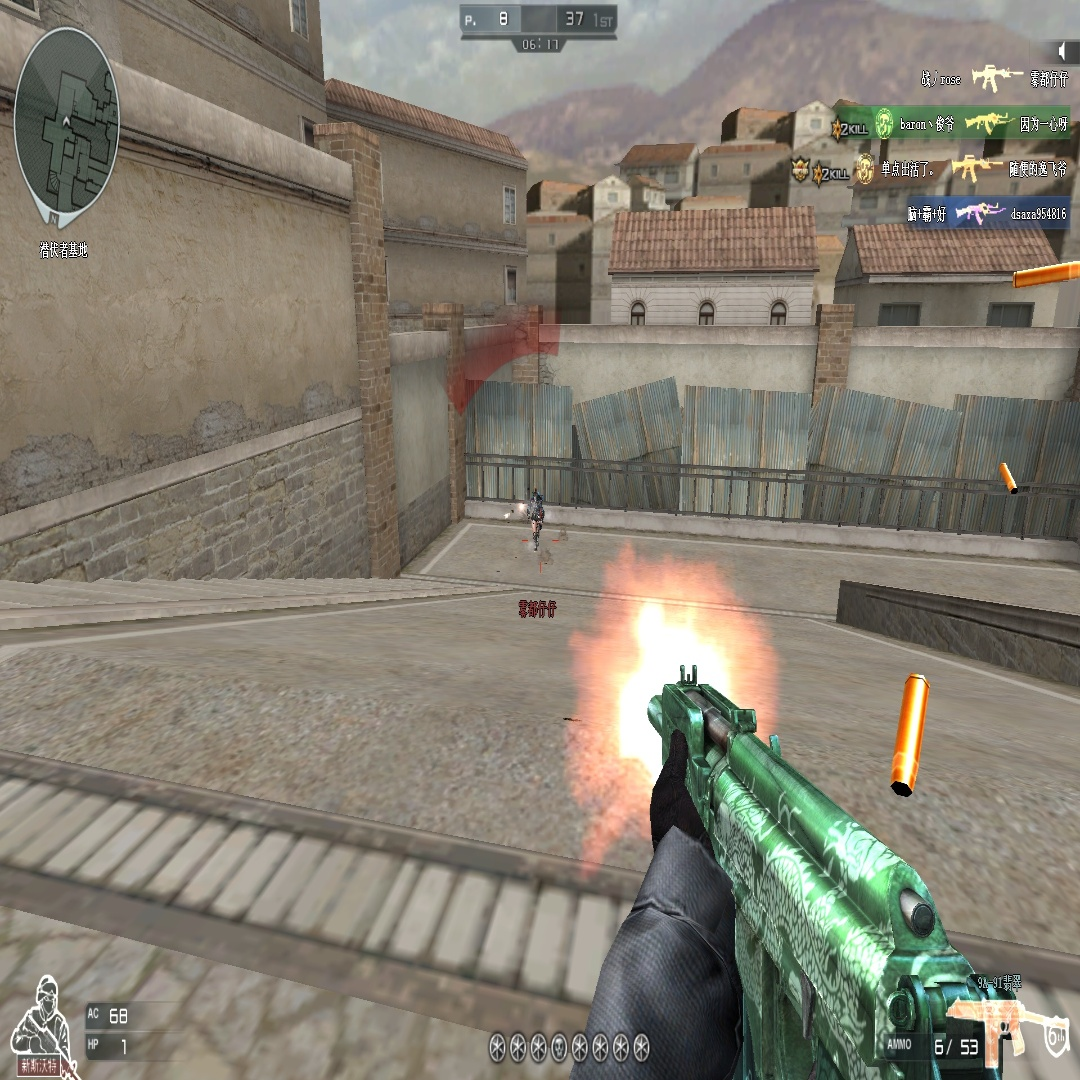p: (528, 487, 546, 543)
